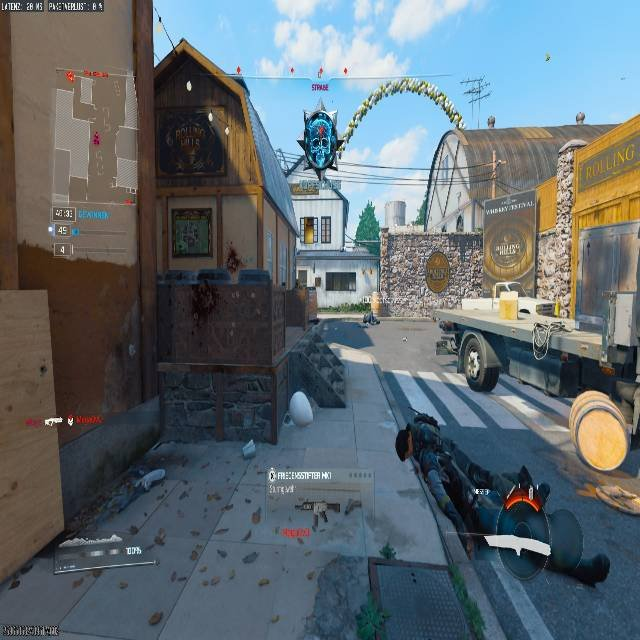player: (300, 106, 340, 176), (435, 319, 461, 354), (361, 310, 381, 326)
